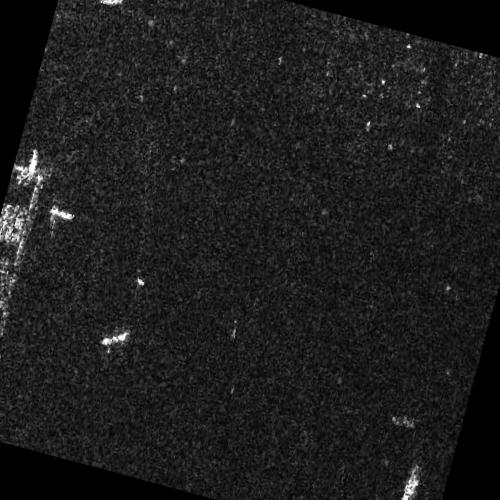ship: (400, 470, 421, 500), (102, 328, 131, 349), (49, 205, 75, 221)
